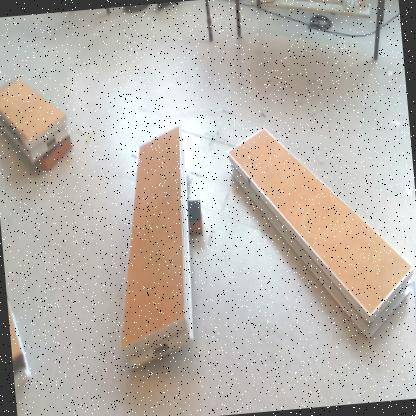Stairs: (228, 129, 414, 341), (121, 128, 194, 372), (1, 78, 70, 164), (8, 296, 31, 393)
